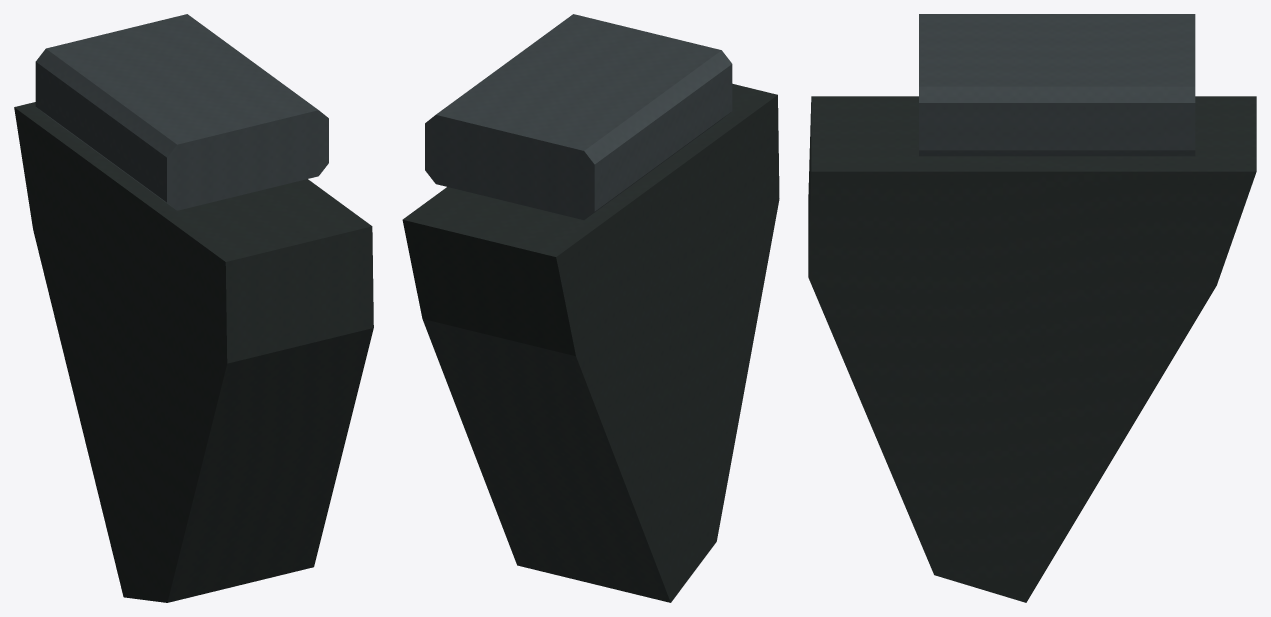
The model's file is fore_angled.glb.
3 views of the same model, side by side, from view 1: azimuth 30°, elevation 25°; view 2: azimuth 150°, elevation 25°; view 3: azimuth 270°, elevation 25° (orthographic). The views are drawn at different scales.
Visible parts, largest first — view 1: fore_angled_inclined_palm_profile, fore_angled_inclined_palm_profile.001, fore_angled_rail_clamp; view 2: fore_angled_inclined_palm_profile, fore_angled_inclined_palm_profile.001, fore_angled_rail_clamp; view 3: fore_angled_inclined_palm_profile, fore_angled_inclined_palm_profile.001, fore_angled_rail_clamp.
Boxes of the visible parts, bbox=[...] form: fore_angled_inclined_palm_profile: bbox=[18, 105, 368, 589]; fore_angled_inclined_palm_profile.001: bbox=[14, 102, 373, 602]; fore_angled_rail_clamp: bbox=[35, 14, 328, 210]; fore_angled_inclined_palm_profile: bbox=[409, 87, 778, 594]; fore_angled_inclined_palm_profile.001: bbox=[402, 83, 779, 602]; fore_angled_rail_clamp: bbox=[425, 14, 732, 219]; fore_angled_inclined_palm_profile: bbox=[808, 100, 1250, 595]; fore_angled_inclined_palm_profile.001: bbox=[808, 96, 1256, 602]; fore_angled_rail_clamp: bbox=[919, 14, 1195, 156].
Bounding box in the file's own units: 0.064 × 0.185 × 0.146.
Materials: 2 (2 with a texture image).
